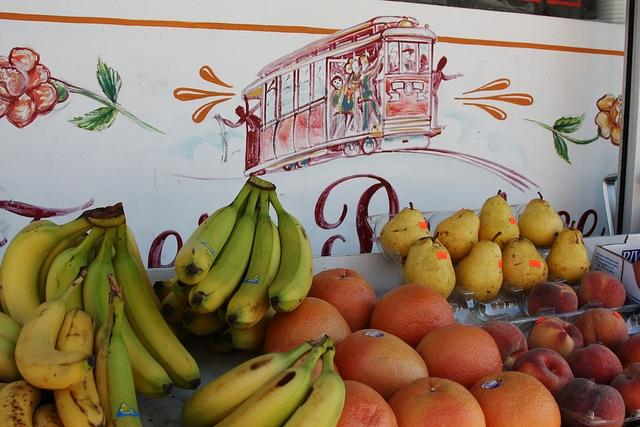banana: (82, 228, 172, 399), (112, 222, 202, 390), (181, 333, 326, 427), (214, 334, 334, 427), (0, 212, 96, 324), (15, 265, 96, 390), (190, 187, 260, 314), (174, 182, 251, 285), (226, 191, 282, 330), (94, 272, 142, 427), (55, 307, 106, 424), (268, 190, 312, 313), (46, 226, 106, 314), (284, 346, 346, 426), (0, 381, 40, 427), (0, 312, 23, 346), (93, 232, 116, 260)
orange: (334, 329, 428, 402), (416, 322, 502, 390), (370, 283, 454, 349), (468, 371, 562, 427), (264, 296, 352, 354), (387, 377, 486, 427), (306, 268, 378, 332), (337, 381, 398, 427)
peach: (556, 378, 626, 427), (510, 348, 574, 399), (574, 308, 628, 355), (527, 316, 584, 360), (566, 344, 624, 386), (480, 321, 528, 371), (578, 271, 626, 309), (528, 282, 578, 317), (610, 362, 640, 418), (616, 334, 640, 371)
pear: (402, 231, 456, 300), (454, 231, 503, 302), (380, 202, 431, 266), (501, 235, 548, 296), (546, 220, 590, 284), (434, 208, 481, 261), (518, 192, 564, 246), (478, 190, 520, 249)
